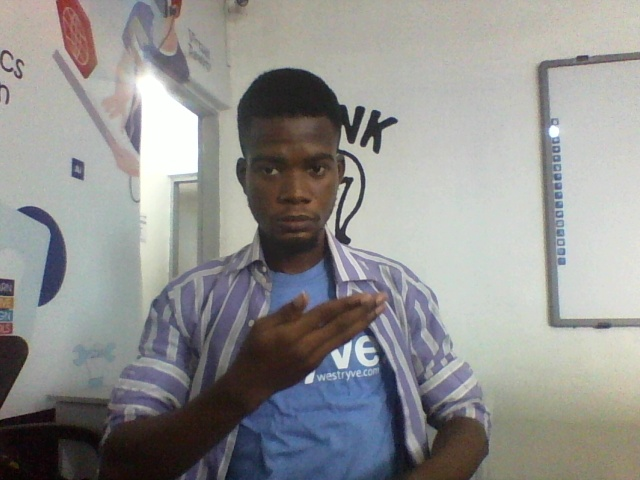you_are_welcome: (128, 293, 388, 446)
